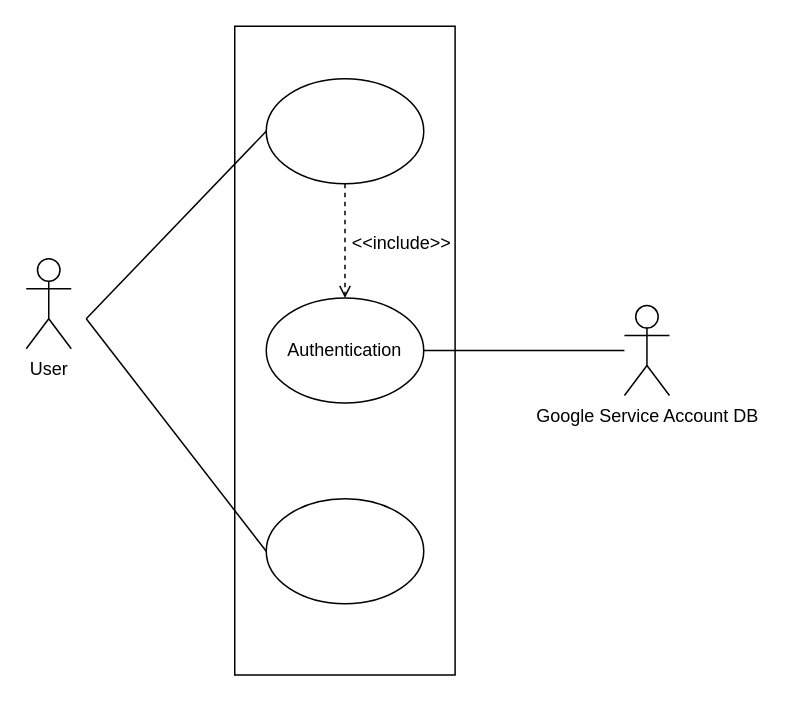
Image size: 785x702. Some labels were removed from this diagram. The shapes that lost their labels are listed below. From the top down, each one's centre as x and y in pixels, then its label:
point (344, 130): Get Precipitation Data
point (344, 550): Visualize precipitation data
